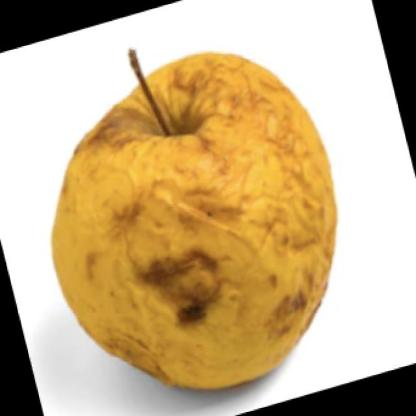defect: (56, 114, 330, 374)
